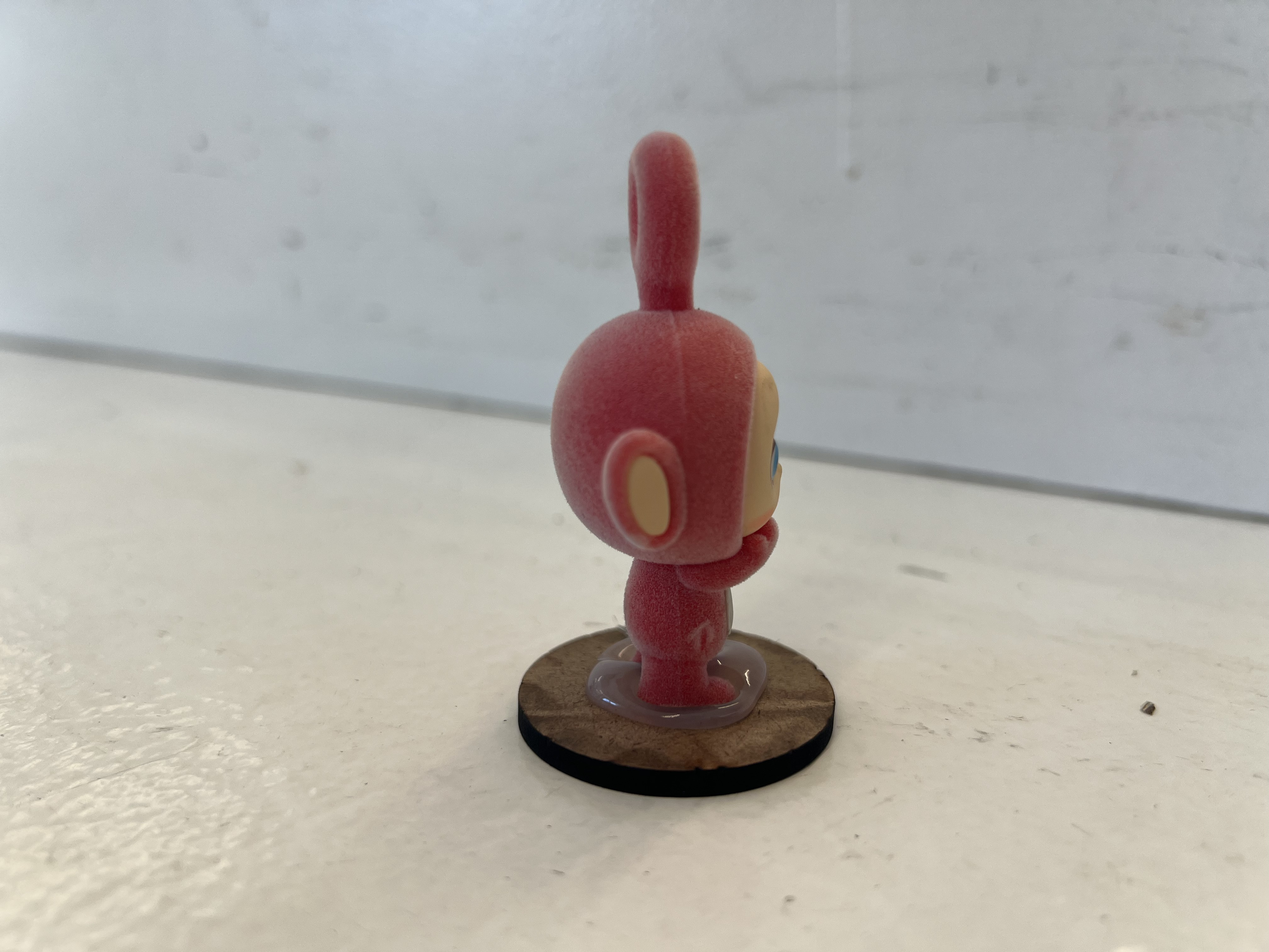teletubby: (551, 132, 781, 711)
